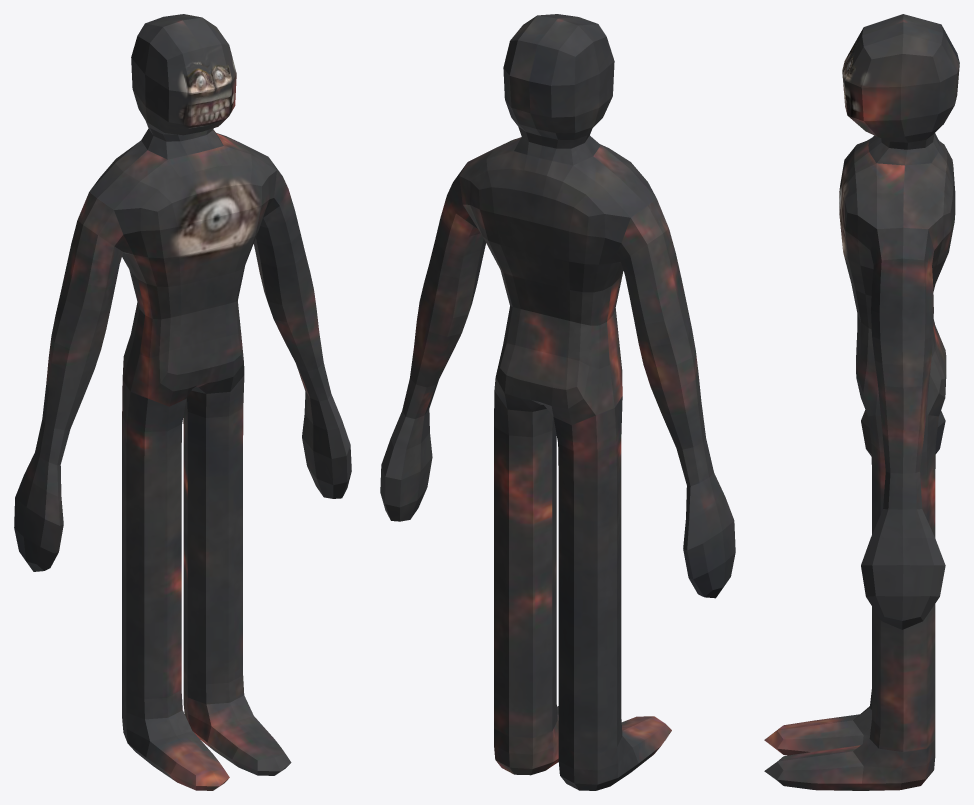
Rendered from MonsterTextured.fbx.
The picture shows the model from 3 angles, left to right: view 1: azimuth 30°, elevation 25°; view 2: azimuth 150°, elevation 25°; view 3: azimuth 270°, elevation 25°; orthographic projection. The views are drawn at different scales.
Visible parts, largest first — view 1: CharacterModel; view 2: CharacterModel; view 3: CharacterModel.
Part boxes in pixels (x1,y1,x2,y2): CharacterModel: [14, 14, 351, 790]; CharacterModel: [380, 14, 735, 790]; CharacterModel: [764, 14, 959, 790].
Bounding box in the file's own units: 77.87 × 169 × 40.07.
